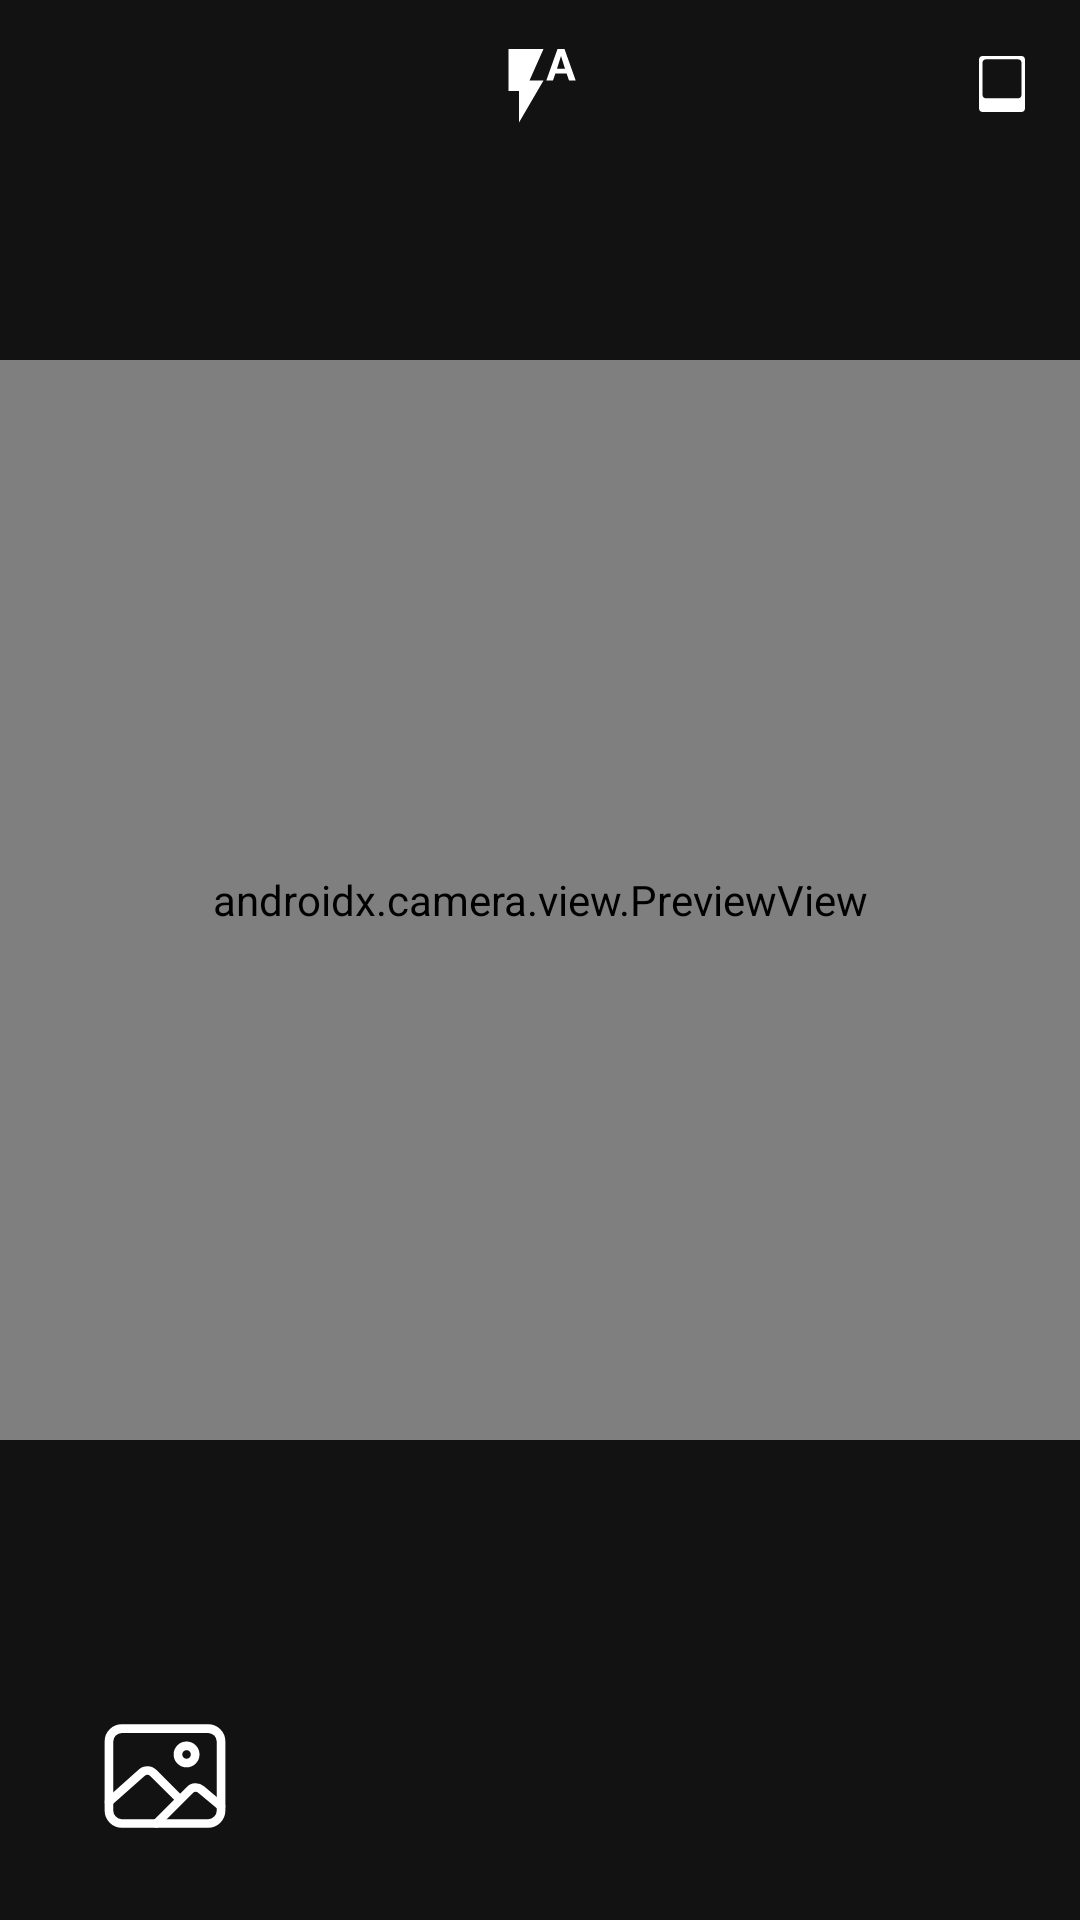

Icon bounding boxes for this 1080*1920 phone screenshot, format (x1, y1, x2, y2):
album: (104, 1724, 226, 1828)
flash auto: (508, 49, 576, 122)
